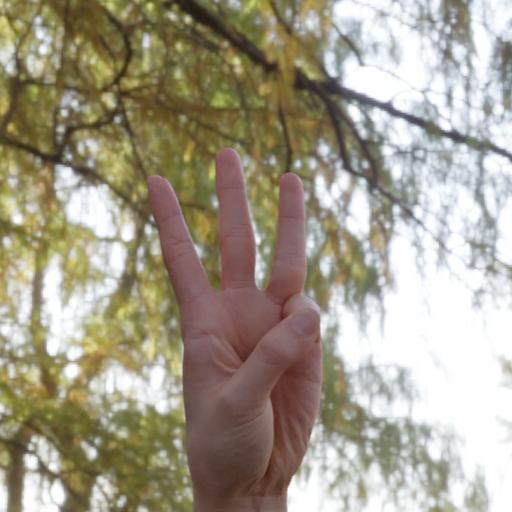W: (129, 137, 341, 512)
